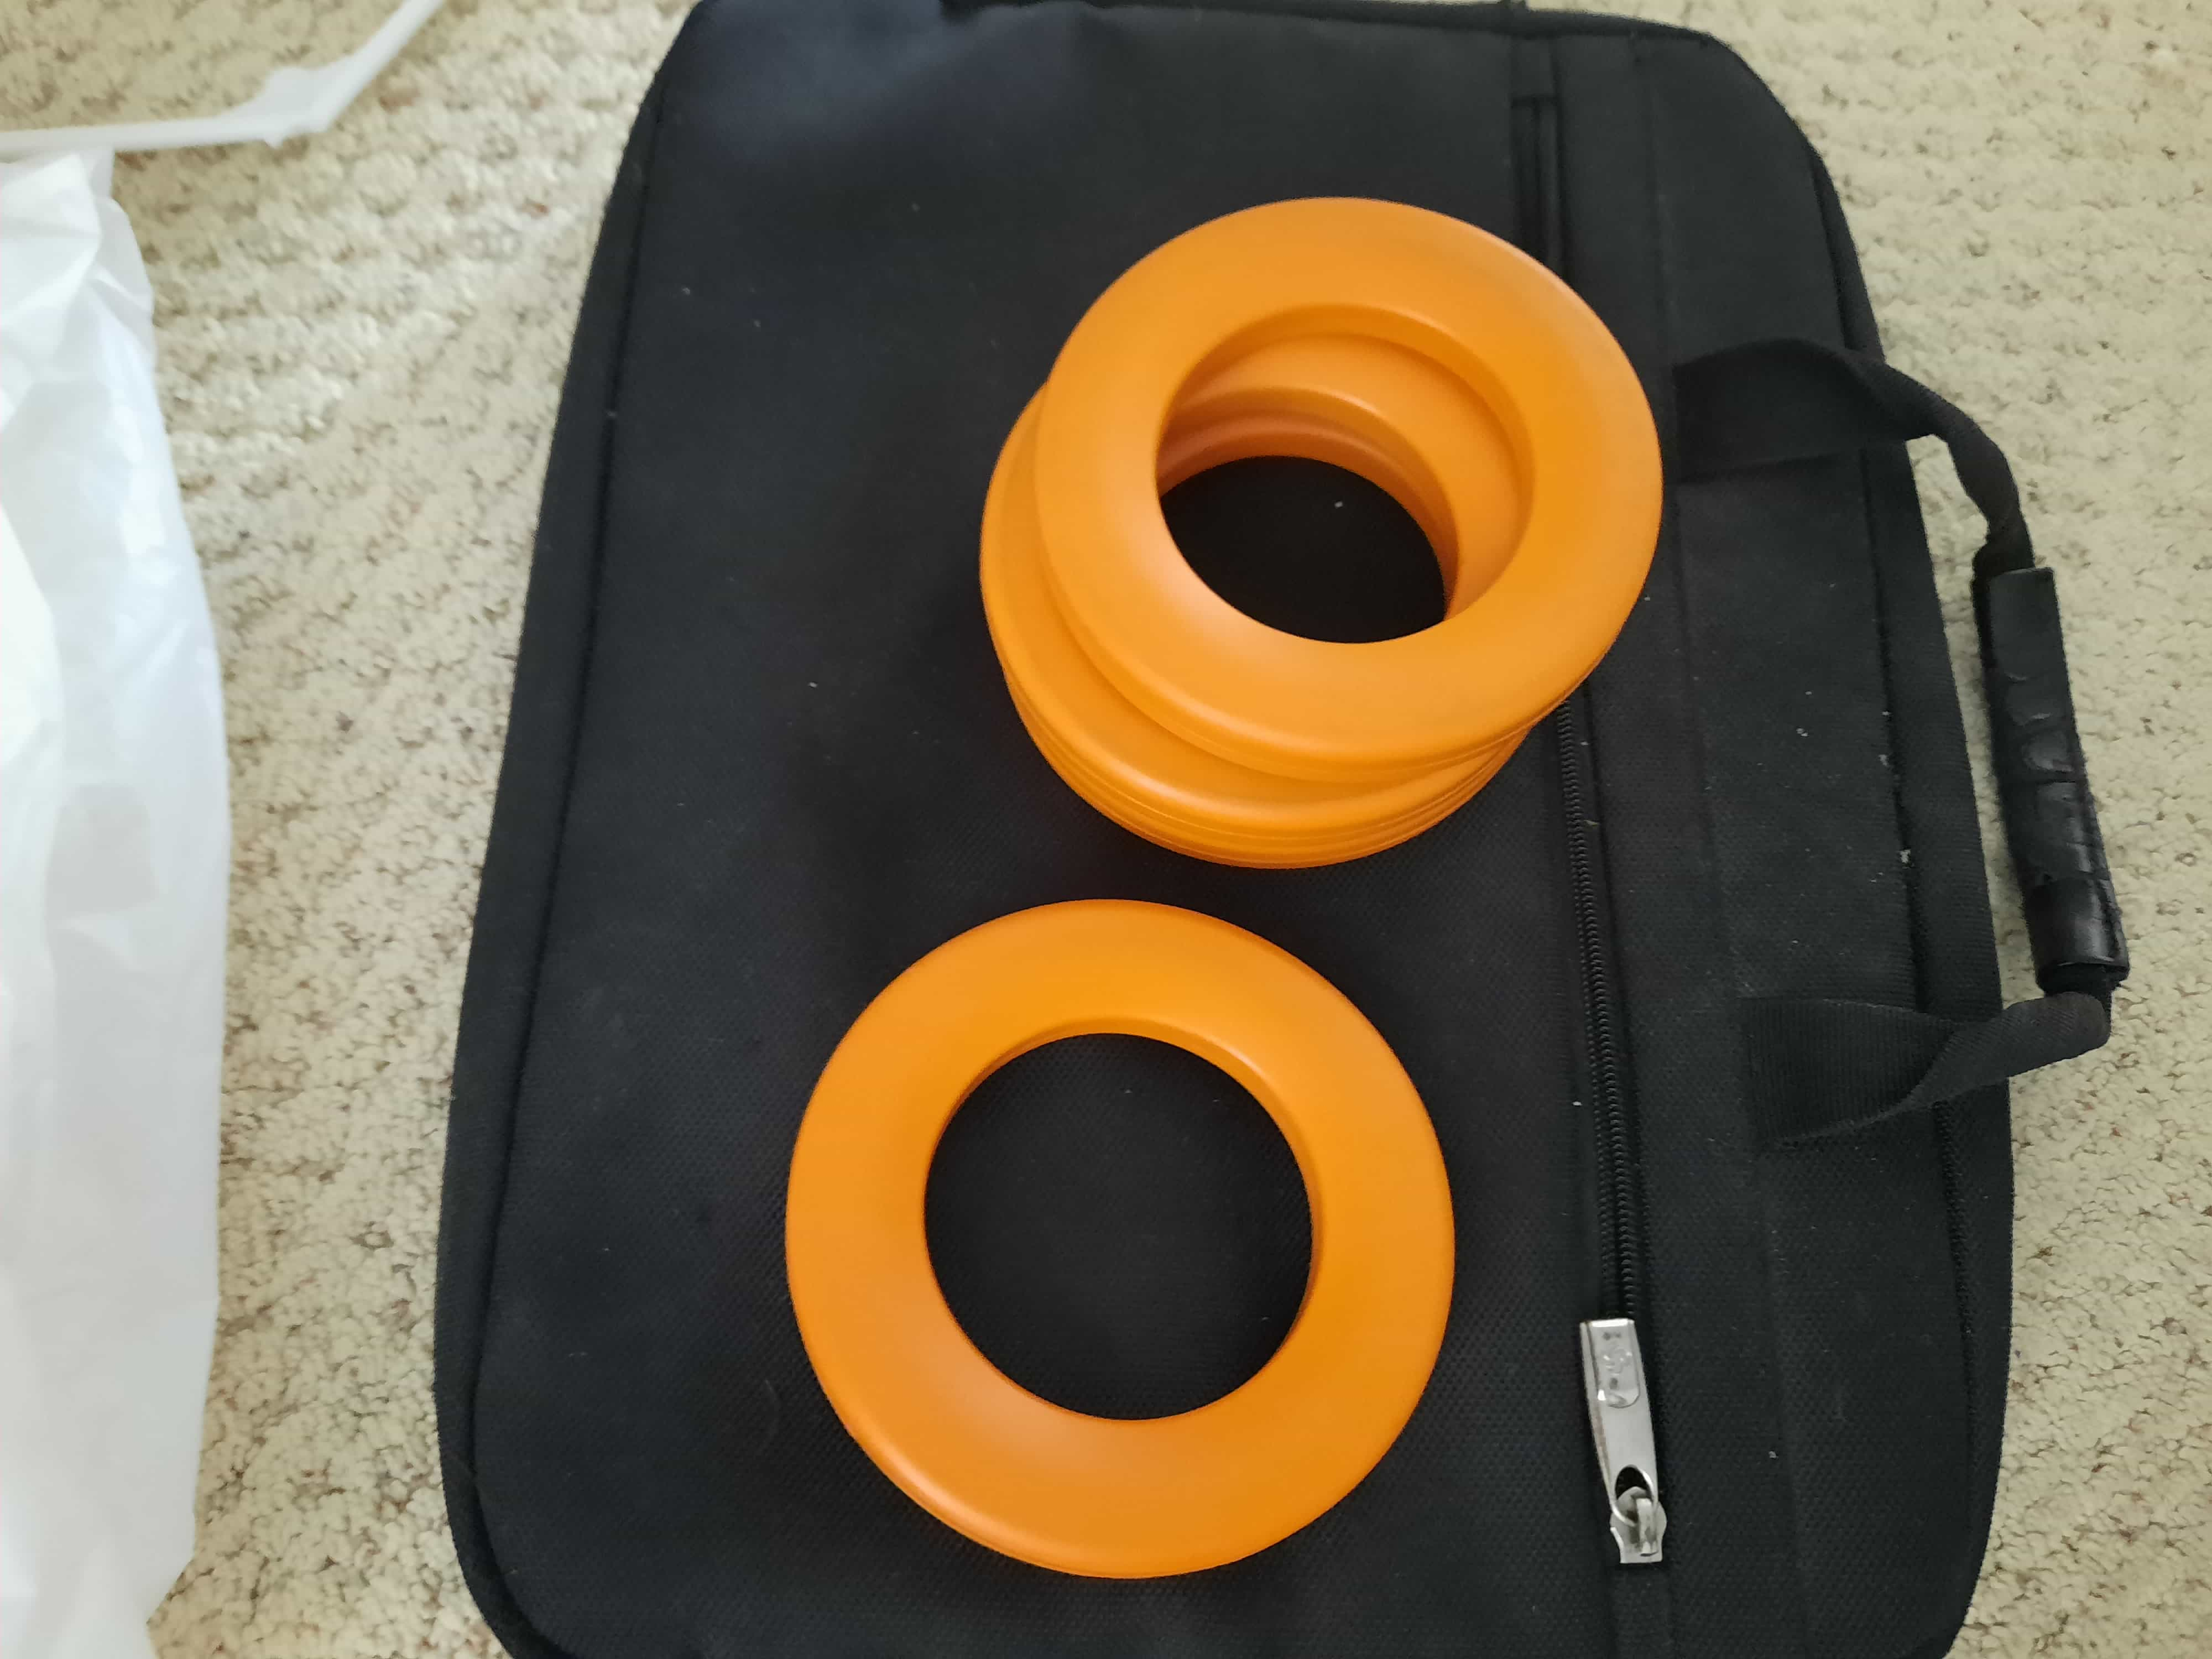FourStack: (979, 190, 1663, 861)
OneStack: (772, 897, 1447, 1579)
